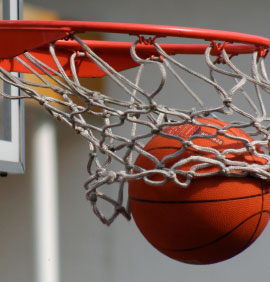basketball: (130, 119, 270, 266)
